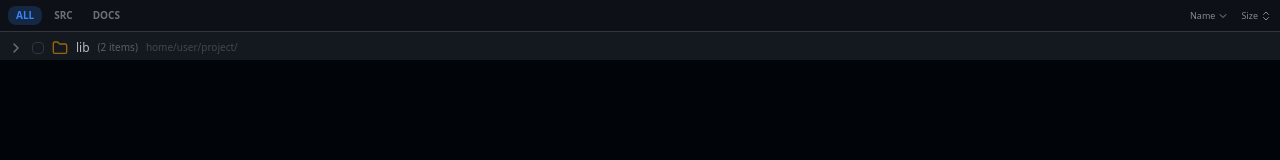
FileTree Path-Based Behavior › Paths as unique identifiers › should handle Unix-style paths correctly
Expected: the text "lib" is shown, x1=76 y1=38 x2=90 y2=56
Click the button with test id "expand-icon".
click(16, 48)  # box x1=6 y1=38 x2=26 y2=58
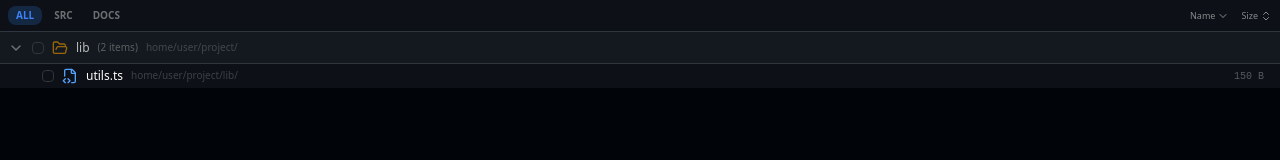
Now the text "utils.ts" is shown, box x1=86 y1=66 x2=123 y2=84
